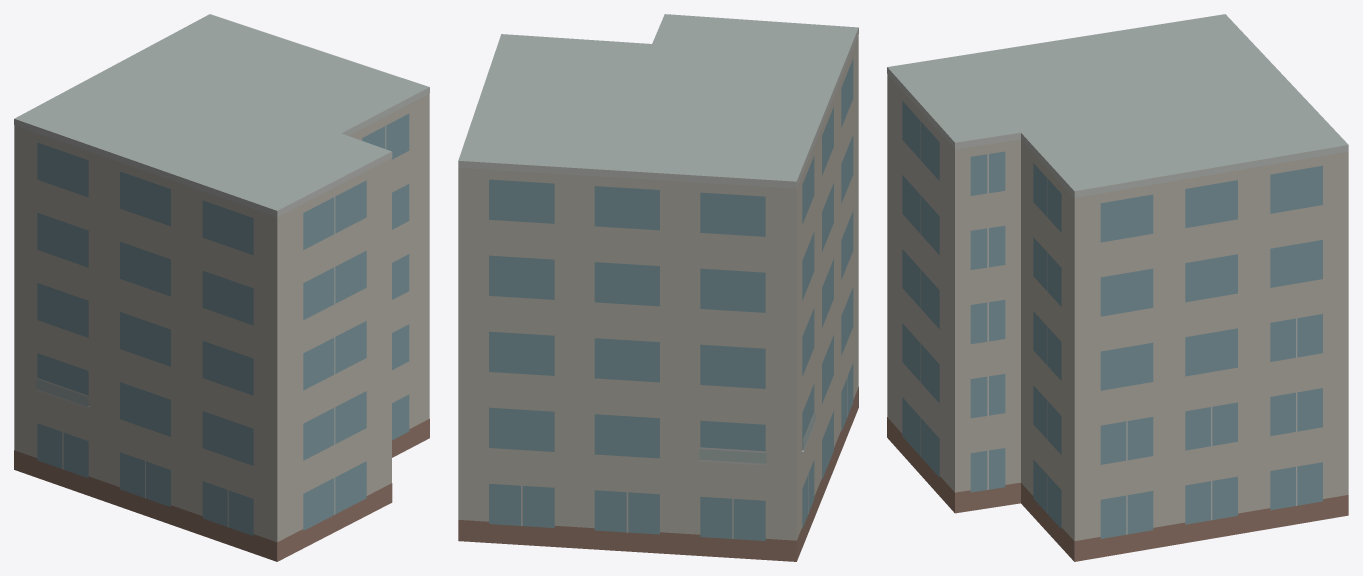
The model's file is survey-upis-32960675.glb.
The picture shows the model from 3 angles, left to right: view 1: azimuth 30°, elevation 25°; view 2: azimuth 150°, elevation 25°; view 3: azimuth 270°, elevation 25°; orthographic projection. The views are drawn at different scales.
Visible parts, largest first — view 1: survey-upis-32960675.tmp; view 2: survey-upis-32960675.tmp; view 3: survey-upis-32960675.tmp.
Boxes of the visible parts, <box> form: survey-upis-32960675.tmp: <box>14,14,429,561</box>; survey-upis-32960675.tmp: <box>458,14,858,561</box>; survey-upis-32960675.tmp: <box>887,14,1348,561</box>.
Size of the model in its own units: 13.81 by 13.45 by 15.19.
